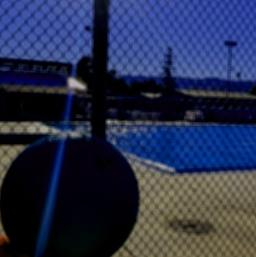algae: (0, 131, 142, 257)
